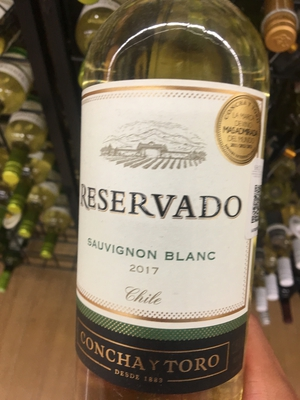reservado sauvignon blanc: (73, 10, 266, 395)
